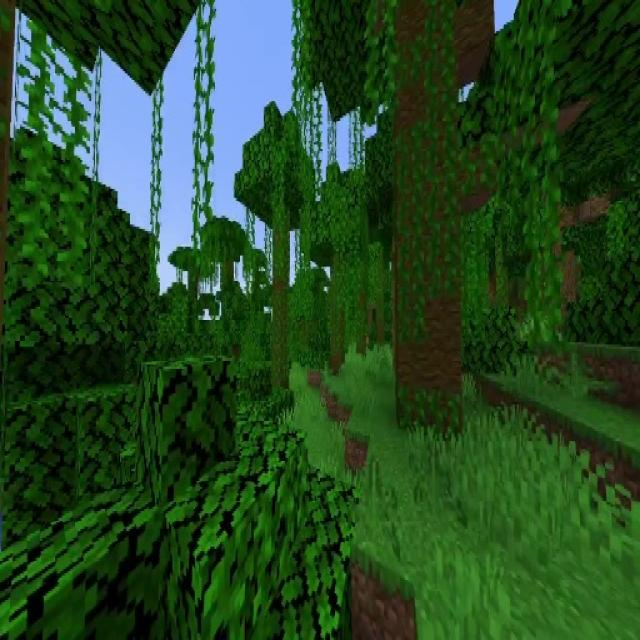jungle: (236, 98, 308, 398), (310, 161, 364, 370)
jungle_log: (391, 4, 462, 444), (272, 211, 288, 394), (331, 256, 346, 369)
